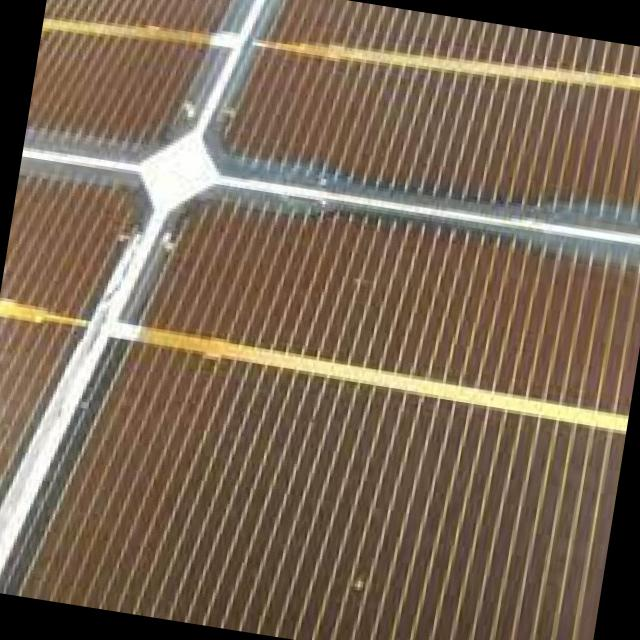faulty: (54, 187, 640, 640), (222, 0, 640, 225), (0, 171, 106, 595), (26, 0, 228, 157)
